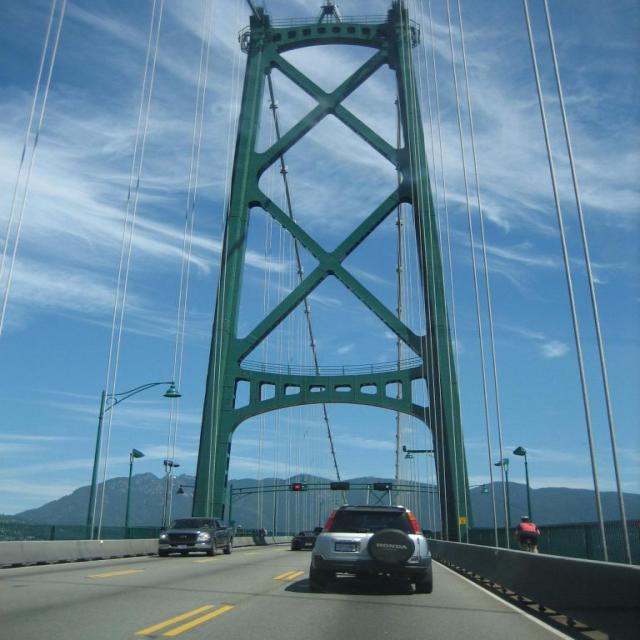car: (307, 503, 435, 593), (157, 514, 235, 554)
